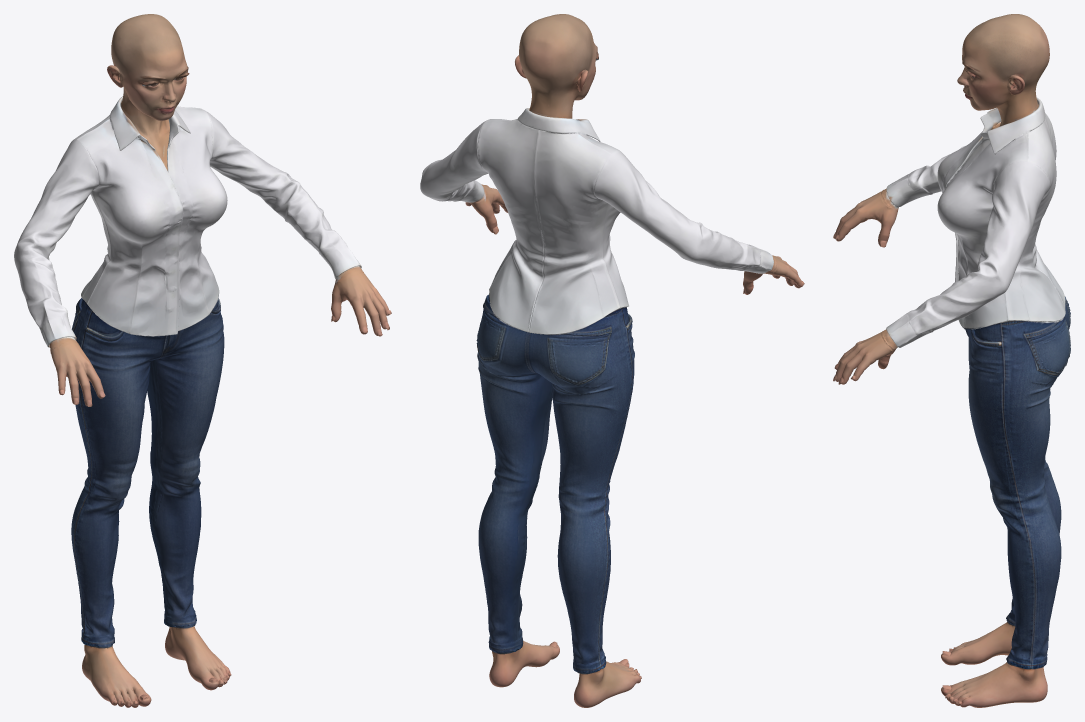
The model's file is shirt_trouser_original.glb.
3 renders of one model, left to right at view 1: azimuth 30°, elevation 25°; view 2: azimuth 150°, elevation 25°; view 3: azimuth 270°, elevation 25°, orthographic.
Parts seen in each view (by area): view 1: tripo_node_65501fe5-92ef-4d79-aebe-a6e71e68cbf8; view 2: tripo_node_65501fe5-92ef-4d79-aebe-a6e71e68cbf8; view 3: tripo_node_65501fe5-92ef-4d79-aebe-a6e71e68cbf8.
Boxes of the visible parts, <box> form: tripo_node_65501fe5-92ef-4d79-aebe-a6e71e68cbf8: <box>14,14,391,707</box>; tripo_node_65501fe5-92ef-4d79-aebe-a6e71e68cbf8: <box>420,14,804,707</box>; tripo_node_65501fe5-92ef-4d79-aebe-a6e71e68cbf8: <box>833,14,1070,707</box>.
Size of the model in its own units: 0.518 by 0.9799 by 0.3188.
1 material, 1 textured.
